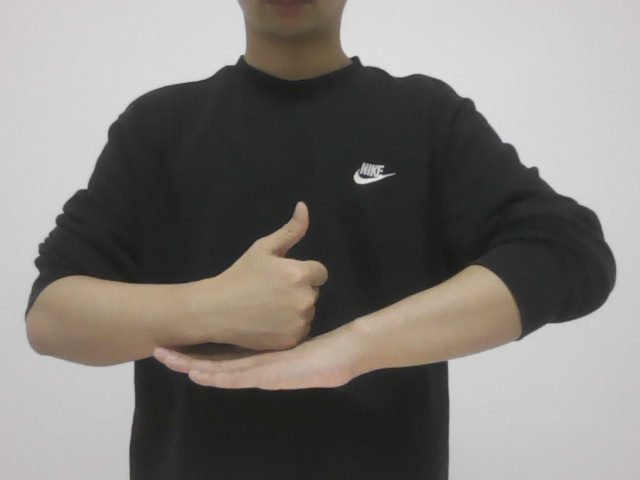new: (154, 193, 365, 395)
